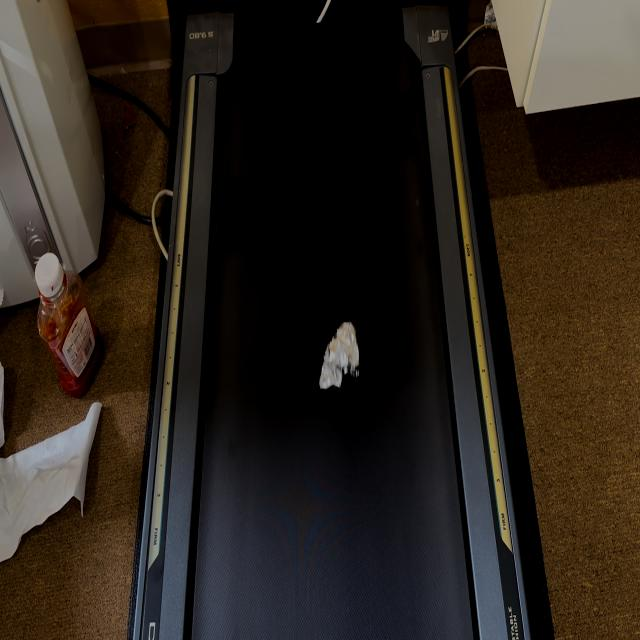Trash: (316, 322, 364, 392)
